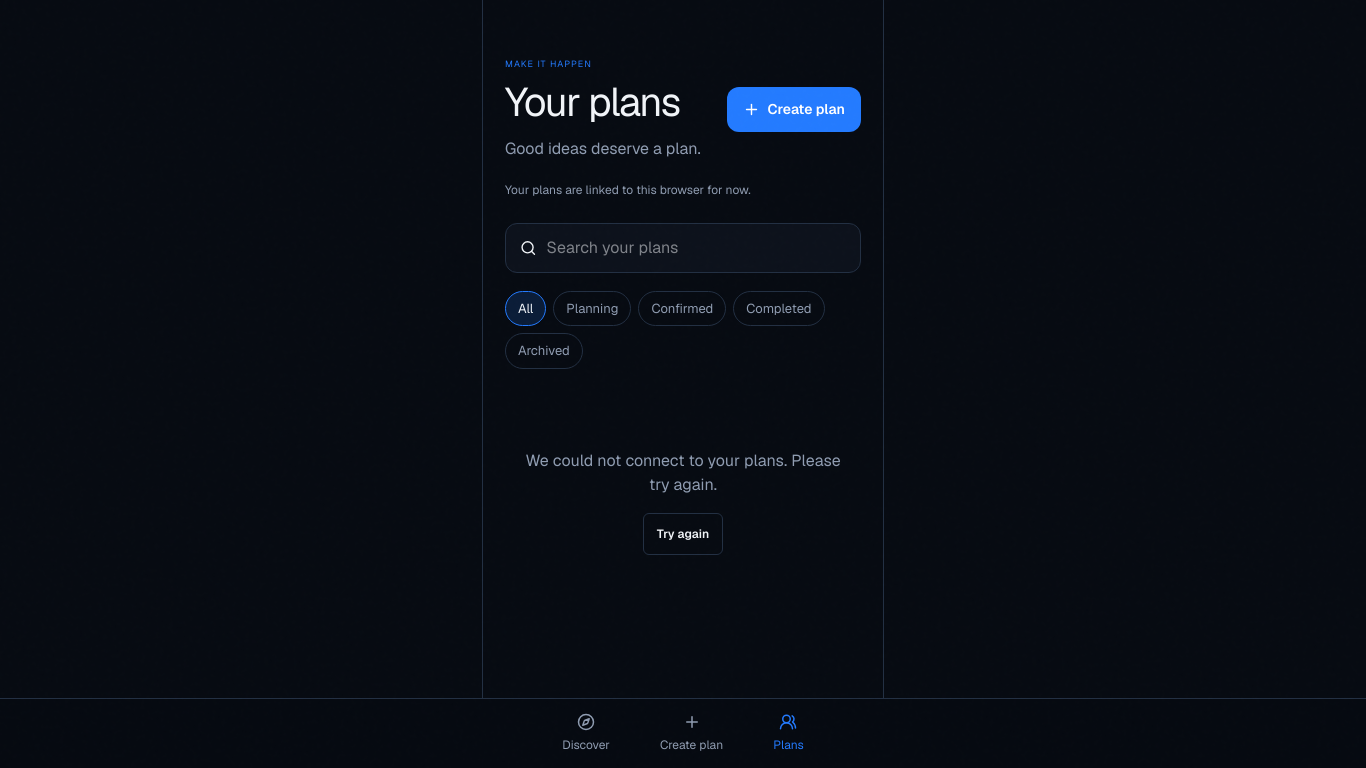
Test: list failures show retry and recover
The image size is (1366, 768).
Expected: the message shows "could not connect", [525,450,841,494]
Click the button "Try again".
click(683, 534)  # box [643,512,723,554]
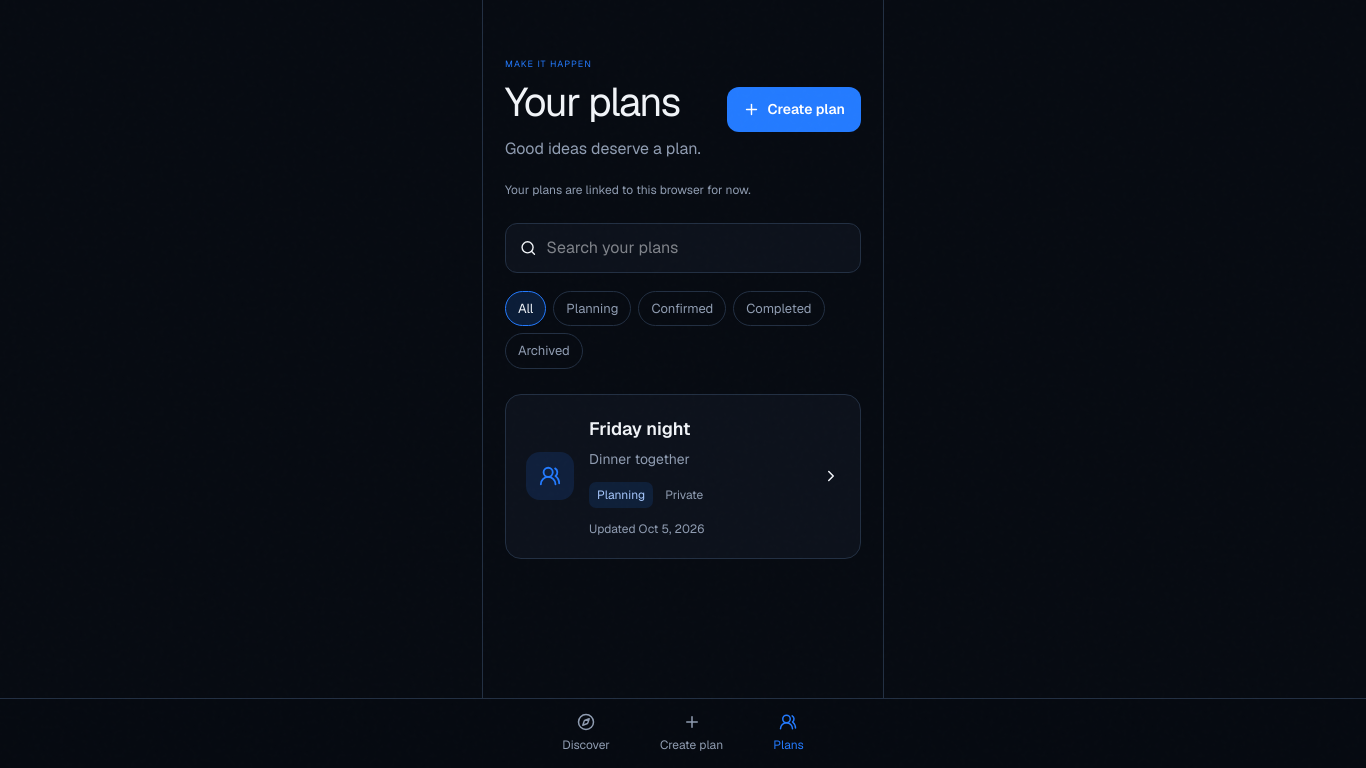
Expected: the link "Friday night" is shown, [505,394,861,558]
